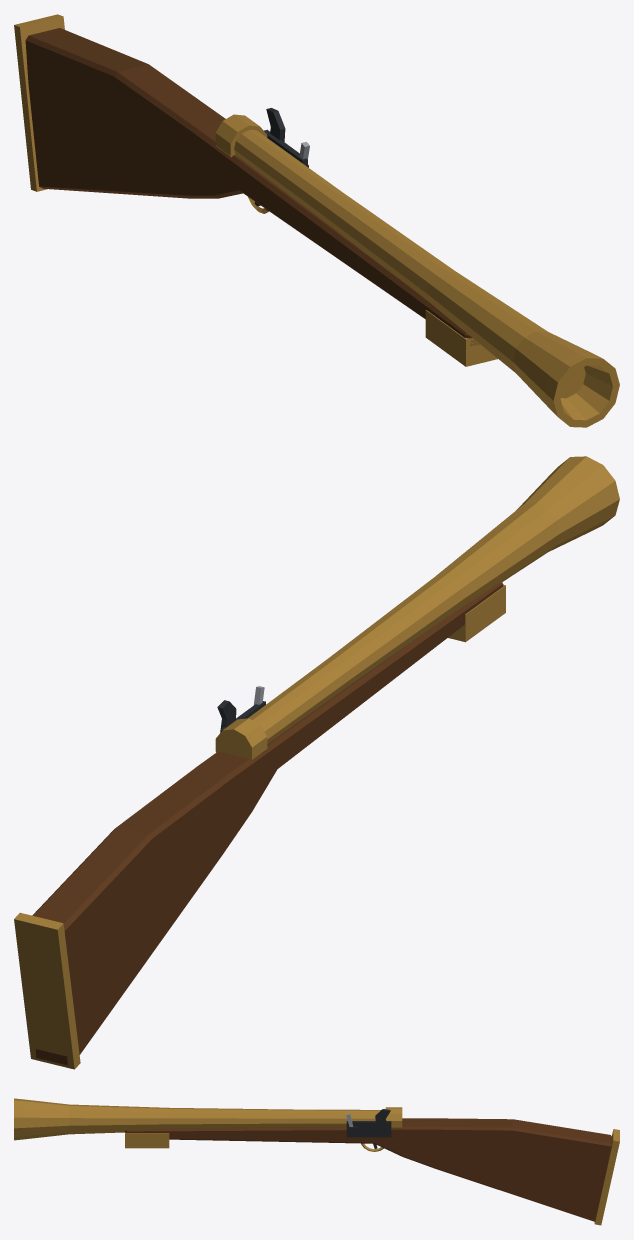
The model's file is blunderbuss.glb.
3 renders of one model, top to bottom at view 1: azimuth 30°, elevation 25°; view 2: azimuth 150°, elevation 25°; view 3: azimuth 270°, elevation 25°, orthographic. The views are drawn at different scales.
Visible parts, largest first — view 1: blunderbuss; view 2: blunderbuss; view 3: blunderbuss.
Part boxes in pixels (<box>): blunderbuss: <box>14,14,619,427</box>; blunderbuss: <box>14,456,619,1069</box>; blunderbuss: <box>14,1098,619,1225</box>.
Bounding box in the file's own units: 0.076 × 0.2375 × 1.09.
